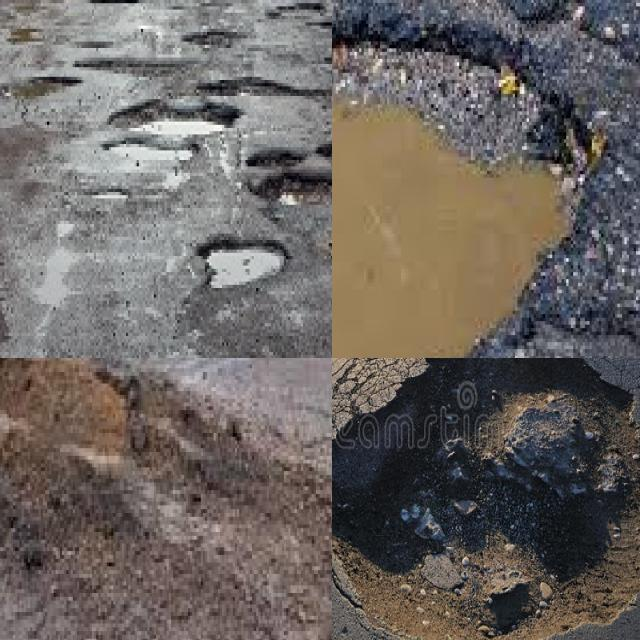Pothole: (332, 38, 617, 358), (332, 358, 640, 640), (109, 106, 226, 141), (201, 80, 332, 105), (124, 144, 186, 195), (71, 54, 190, 77), (256, 179, 332, 209), (0, 70, 64, 102), (269, 0, 332, 21), (181, 29, 237, 51), (211, 256, 252, 275), (248, 154, 301, 166), (100, 189, 128, 202), (92, 0, 139, 6)
